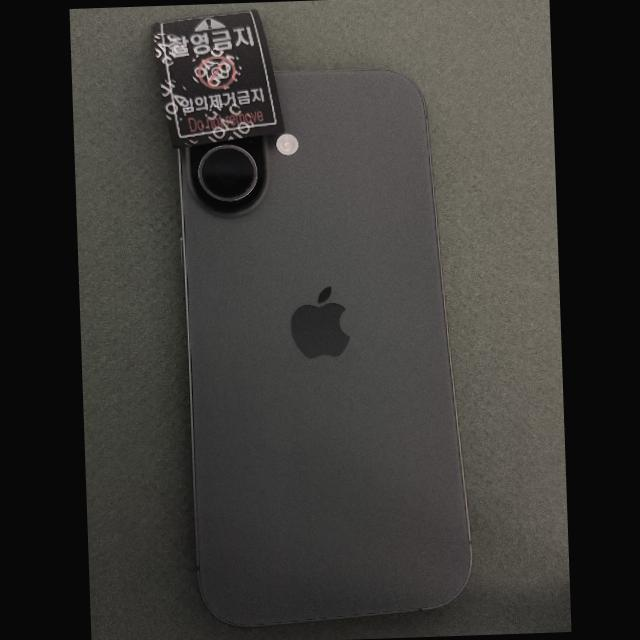lens: (199, 146, 256, 199)
phone: (176, 69, 473, 627)
sticker: (150, 9, 285, 149)
